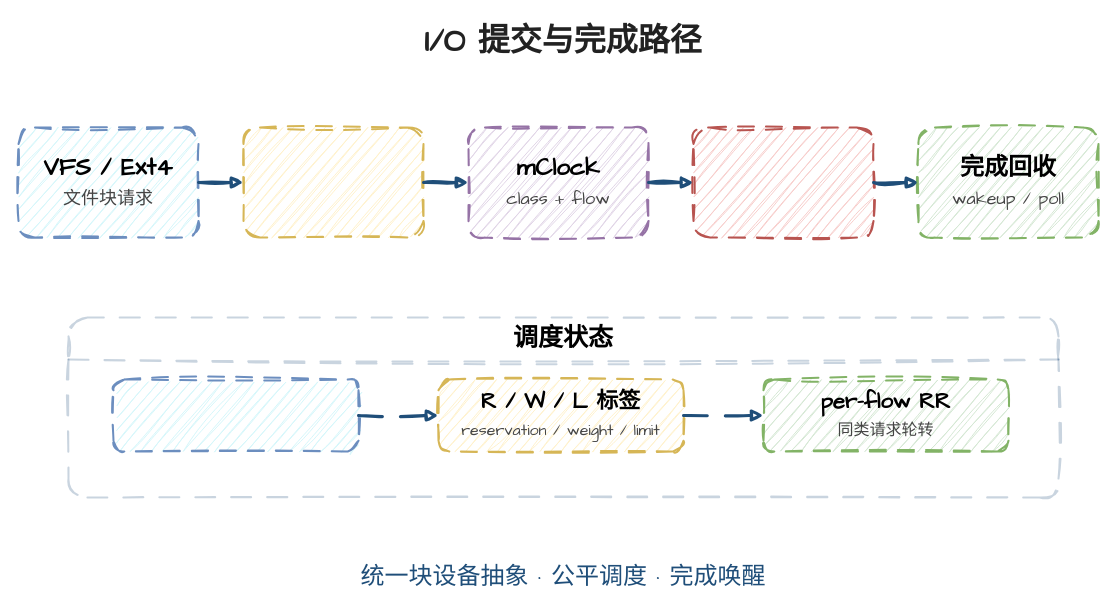
This 1116x614 diagram has some shape labels left out. The centre of each missing label's shape, as x and y in pixels:
"8 个 service class nice → class" belongs at (x=235, y=415).
"Block backend 根分区 / 设备抽象" belongs at (x=333, y=182).
"VirtQueue desc / avail / used" belongs at (x=783, y=182).
